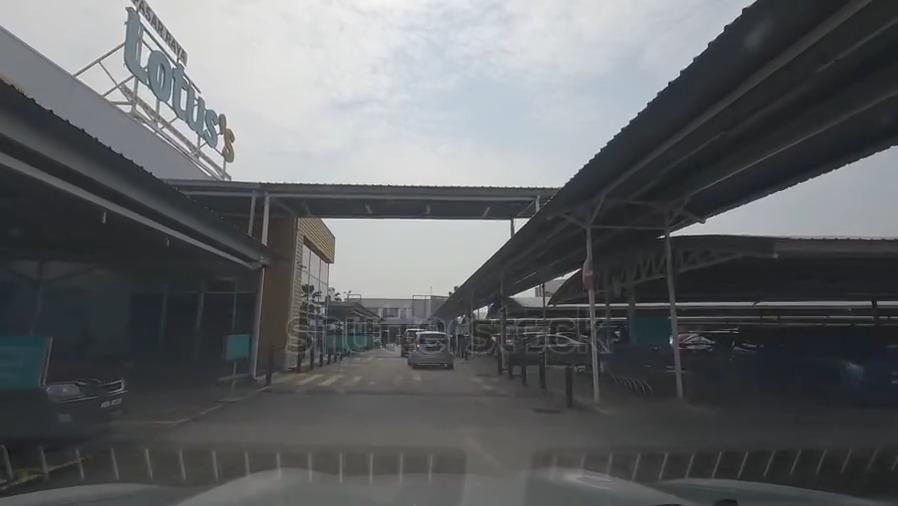car: (733, 317, 898, 410), (3, 339, 131, 437), (495, 331, 585, 359), (679, 326, 737, 363), (409, 331, 455, 369), (401, 326, 423, 358)
manhole: (529, 401, 565, 418)
pedestrian: (271, 367, 529, 398)
